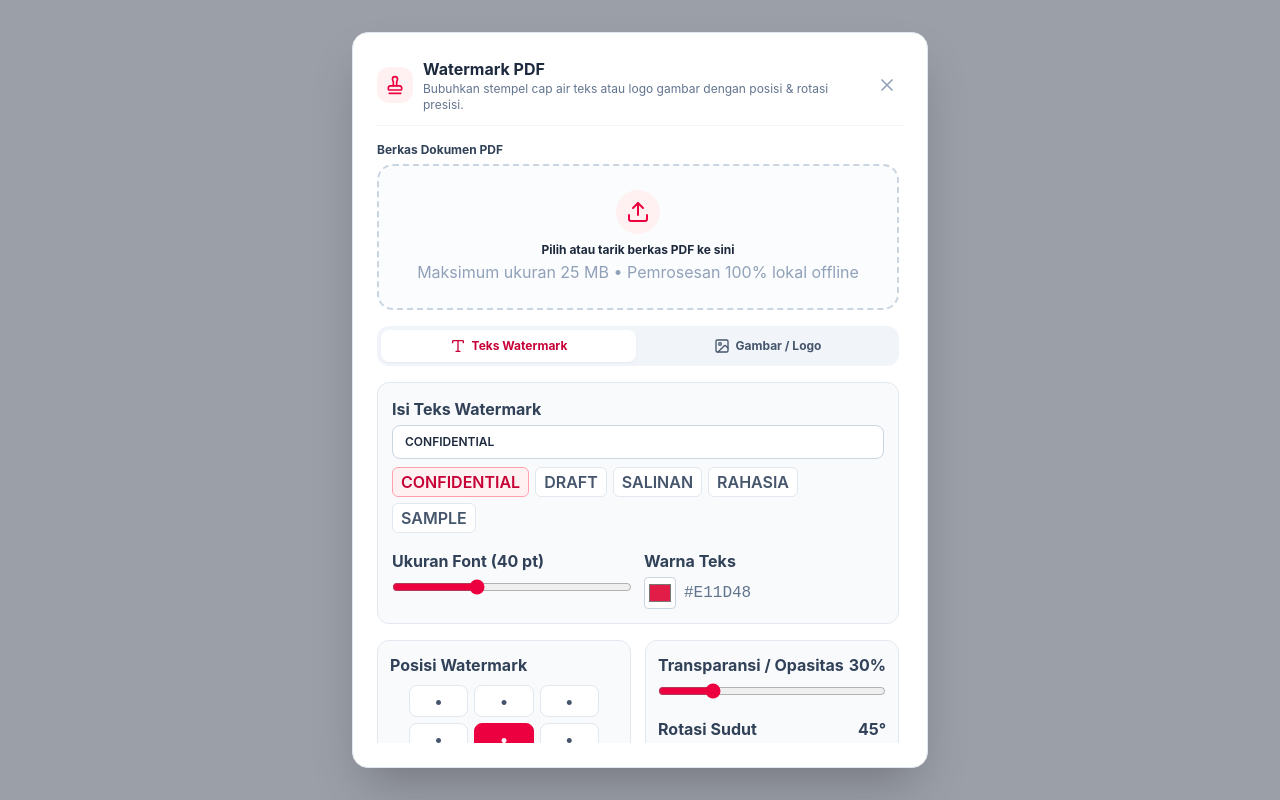
PdfWatermarkModal Component › dapat beralih antara mode teks dan mode gambar
The image size is (1280, 800).
Check: the field with test id "input-watermark-text" is shown, box 392,425 -> 884,459
// Beralih ke mode gambar
Click the button with test id "tab-watermark-image": coordinates (768, 346) 640,330 -> 895,362
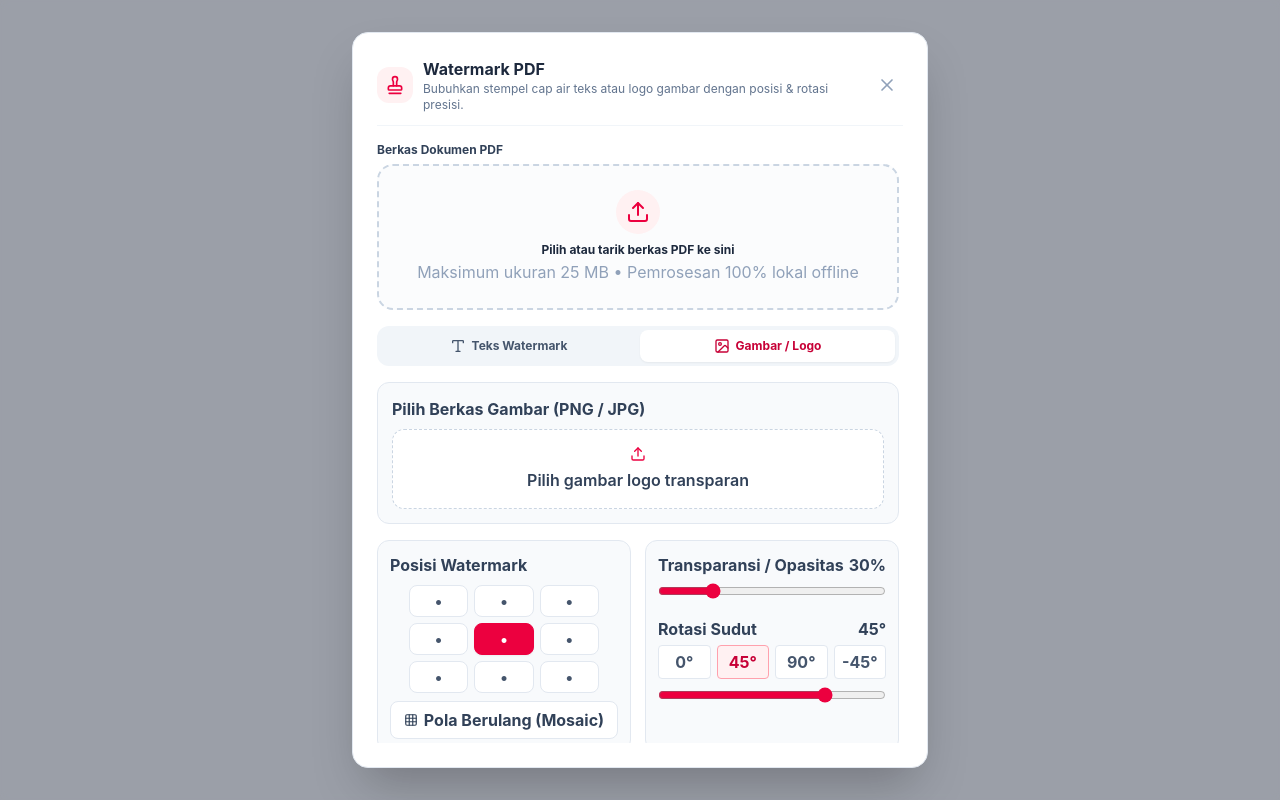
Check: the file field with test id "input-watermark-image-file" is shown, box 392,429 -> 884,509
// Beralih kembali ke mode teks
Click the button with test id "tab-watermark-text": coordinates (508, 346) 381,330 -> 636,362
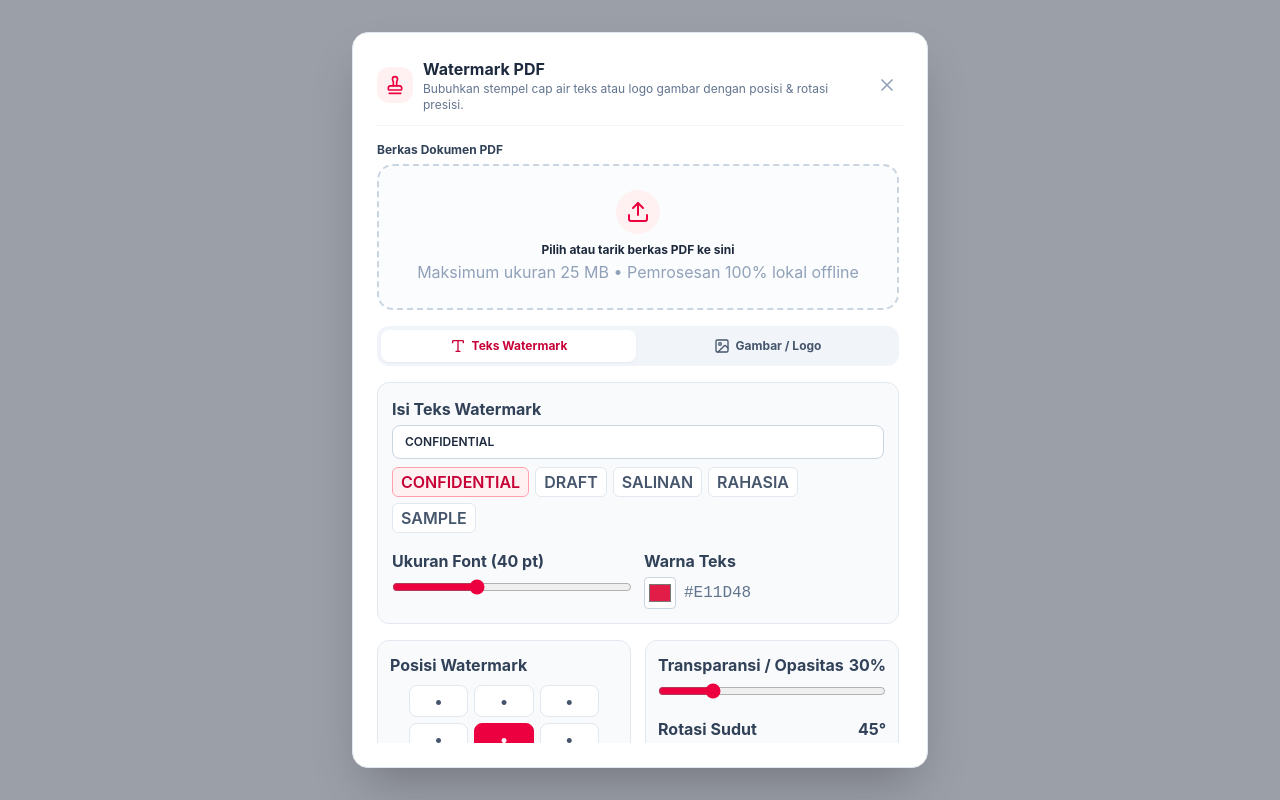
Check: the field with test id "input-watermark-text" is shown, box 392,425 -> 884,459
